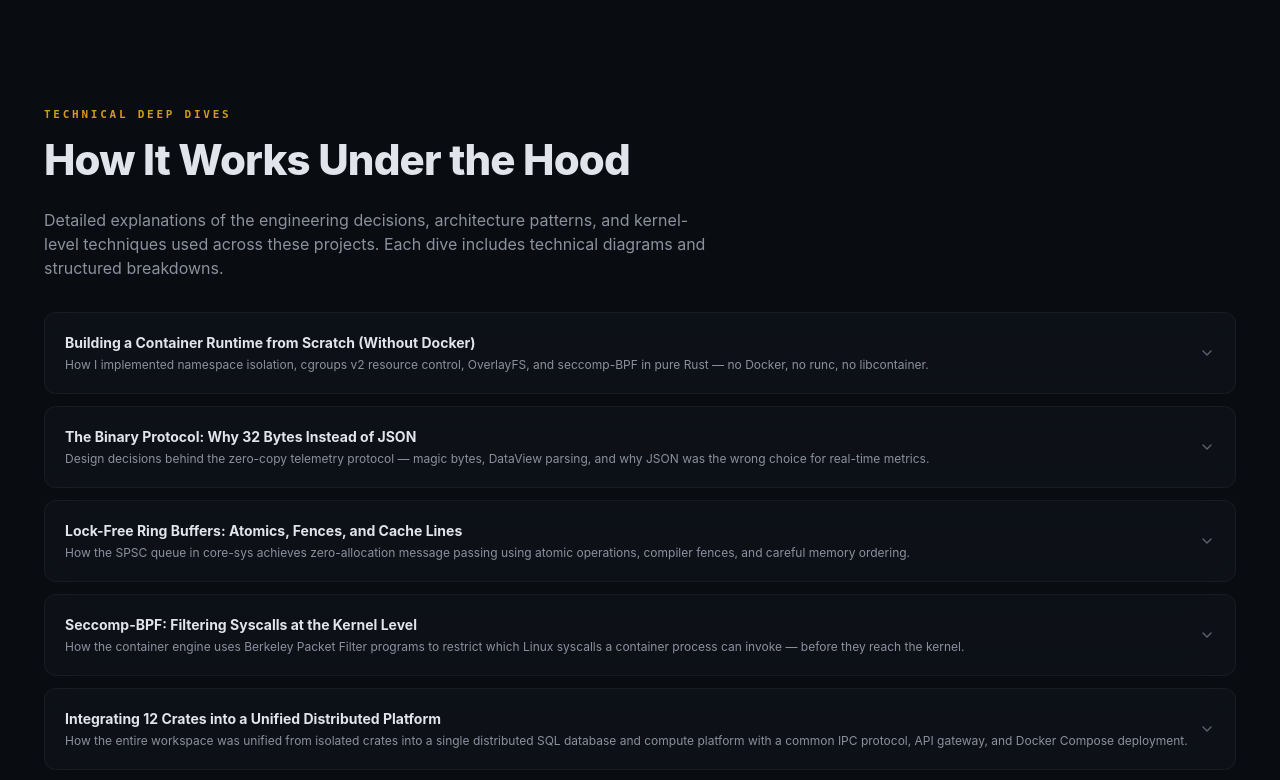
Test: DeepDives › expands content when clicked
The image size is (1280, 780).
Step 1. Click the heading "Building a Container Runtime from Scratch (Without Docker)" → (270, 342), box [65,334,476,351]
(page scrolled)
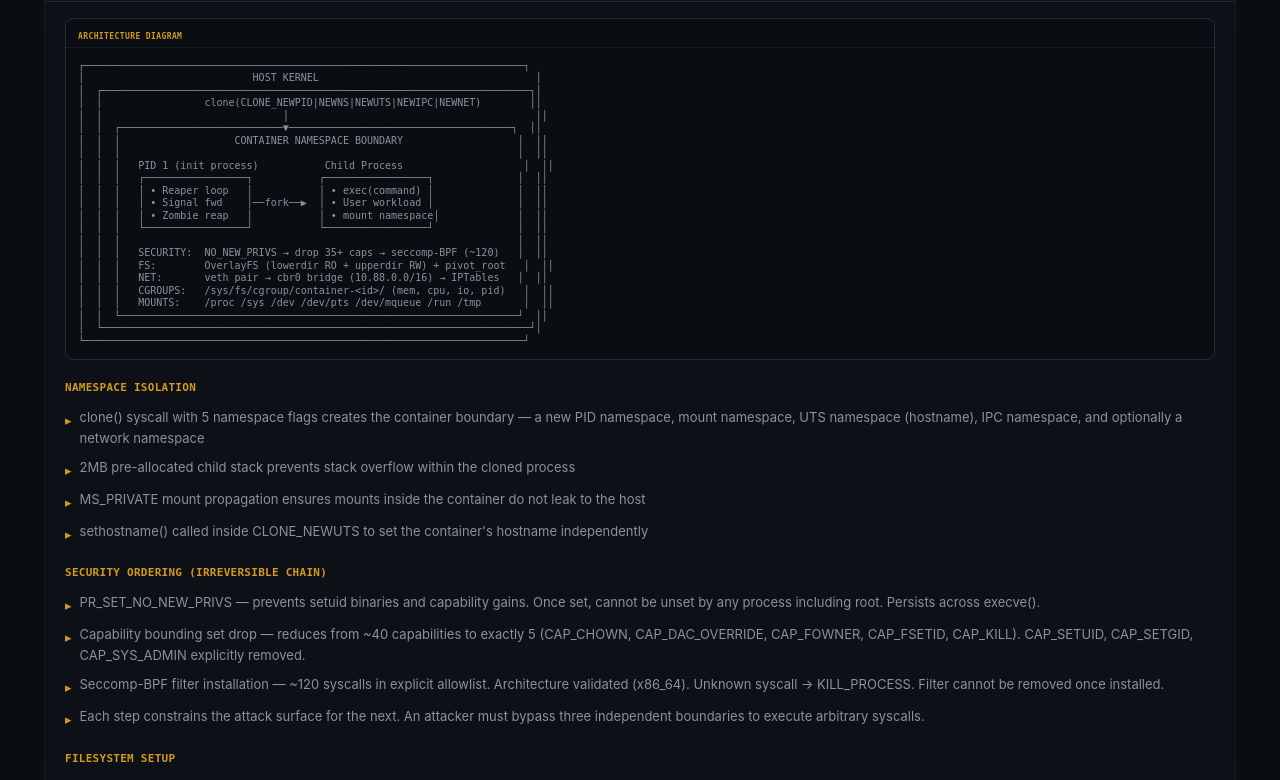
Check: the text "clone() syscall with 5 namespace flags" is shown, box [80,409,1182,446]
